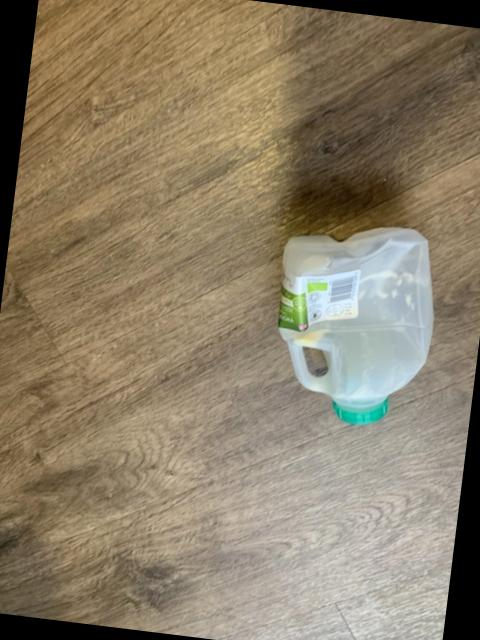plastic: (276, 228, 431, 424)
